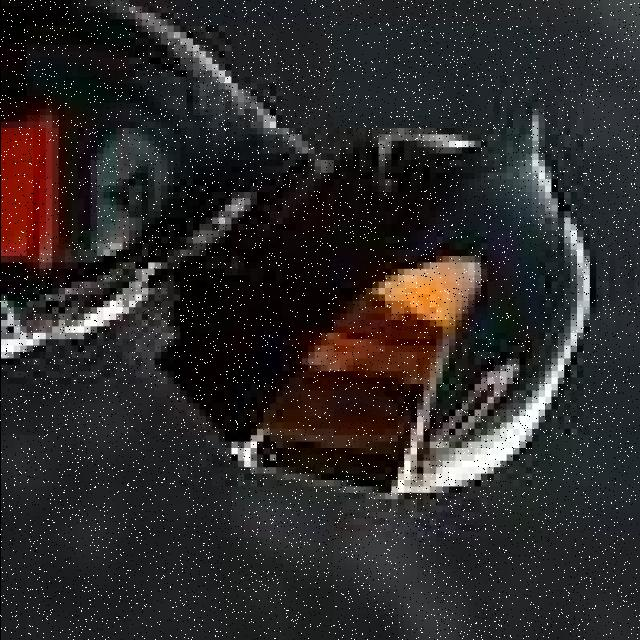Helmet: (157, 91, 621, 527)
